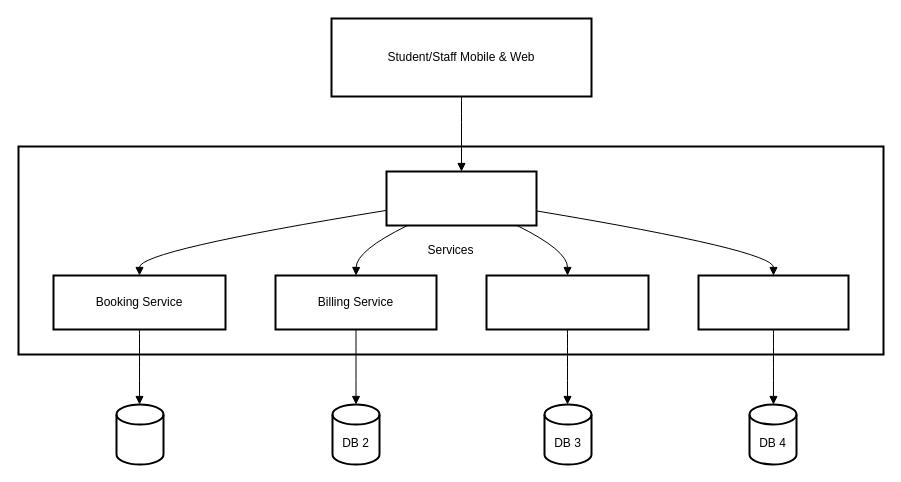
This 901x482 diagram has some shape labels left out. Here are the shapes that lost their labels. From the top down, the box of each, then its label:
(385, 170, 537, 226): API Gateway
(485, 274, 649, 330): Repair Service
(697, 274, 849, 330): Auth Service
(115, 403, 164, 465): DB 1
